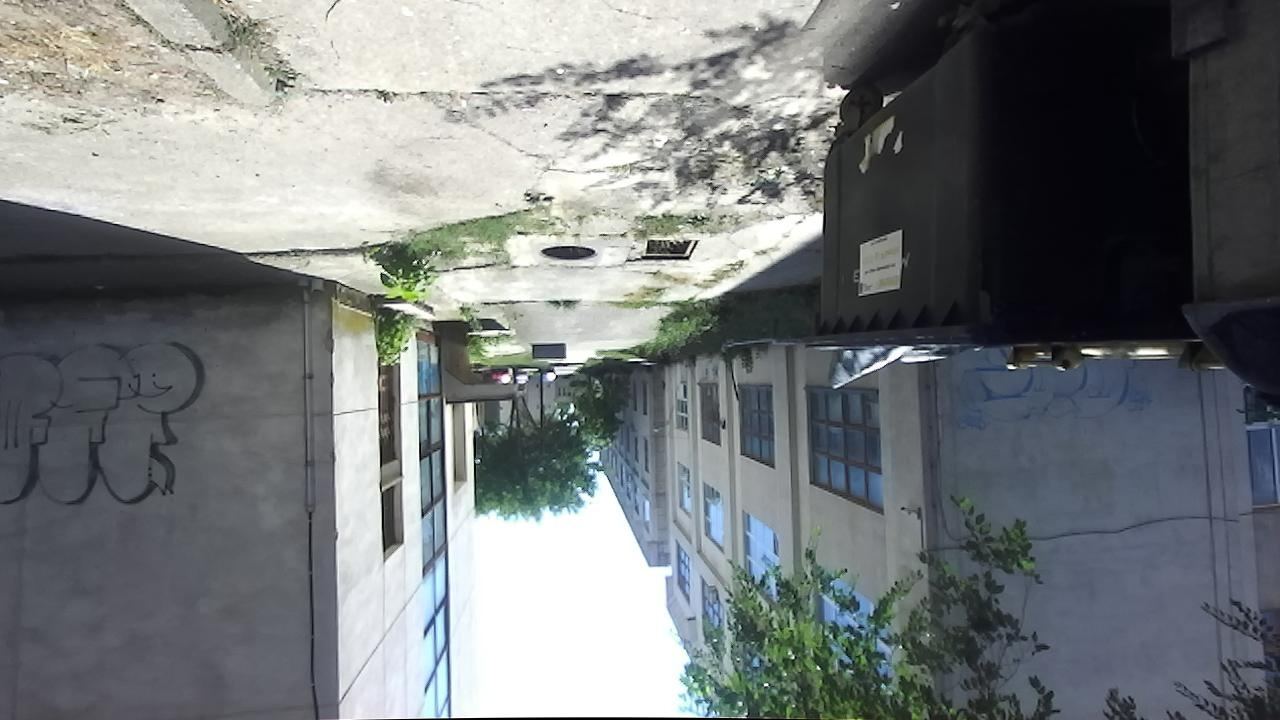drain: (536, 242, 602, 268), (638, 237, 703, 263)
